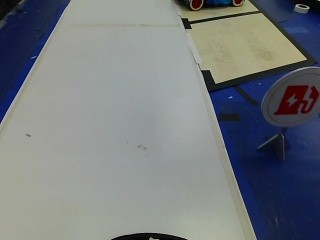battery: (260, 66, 318, 131)
